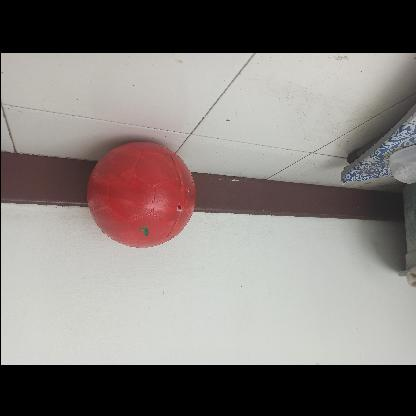red_ball: (86, 144, 192, 250)
